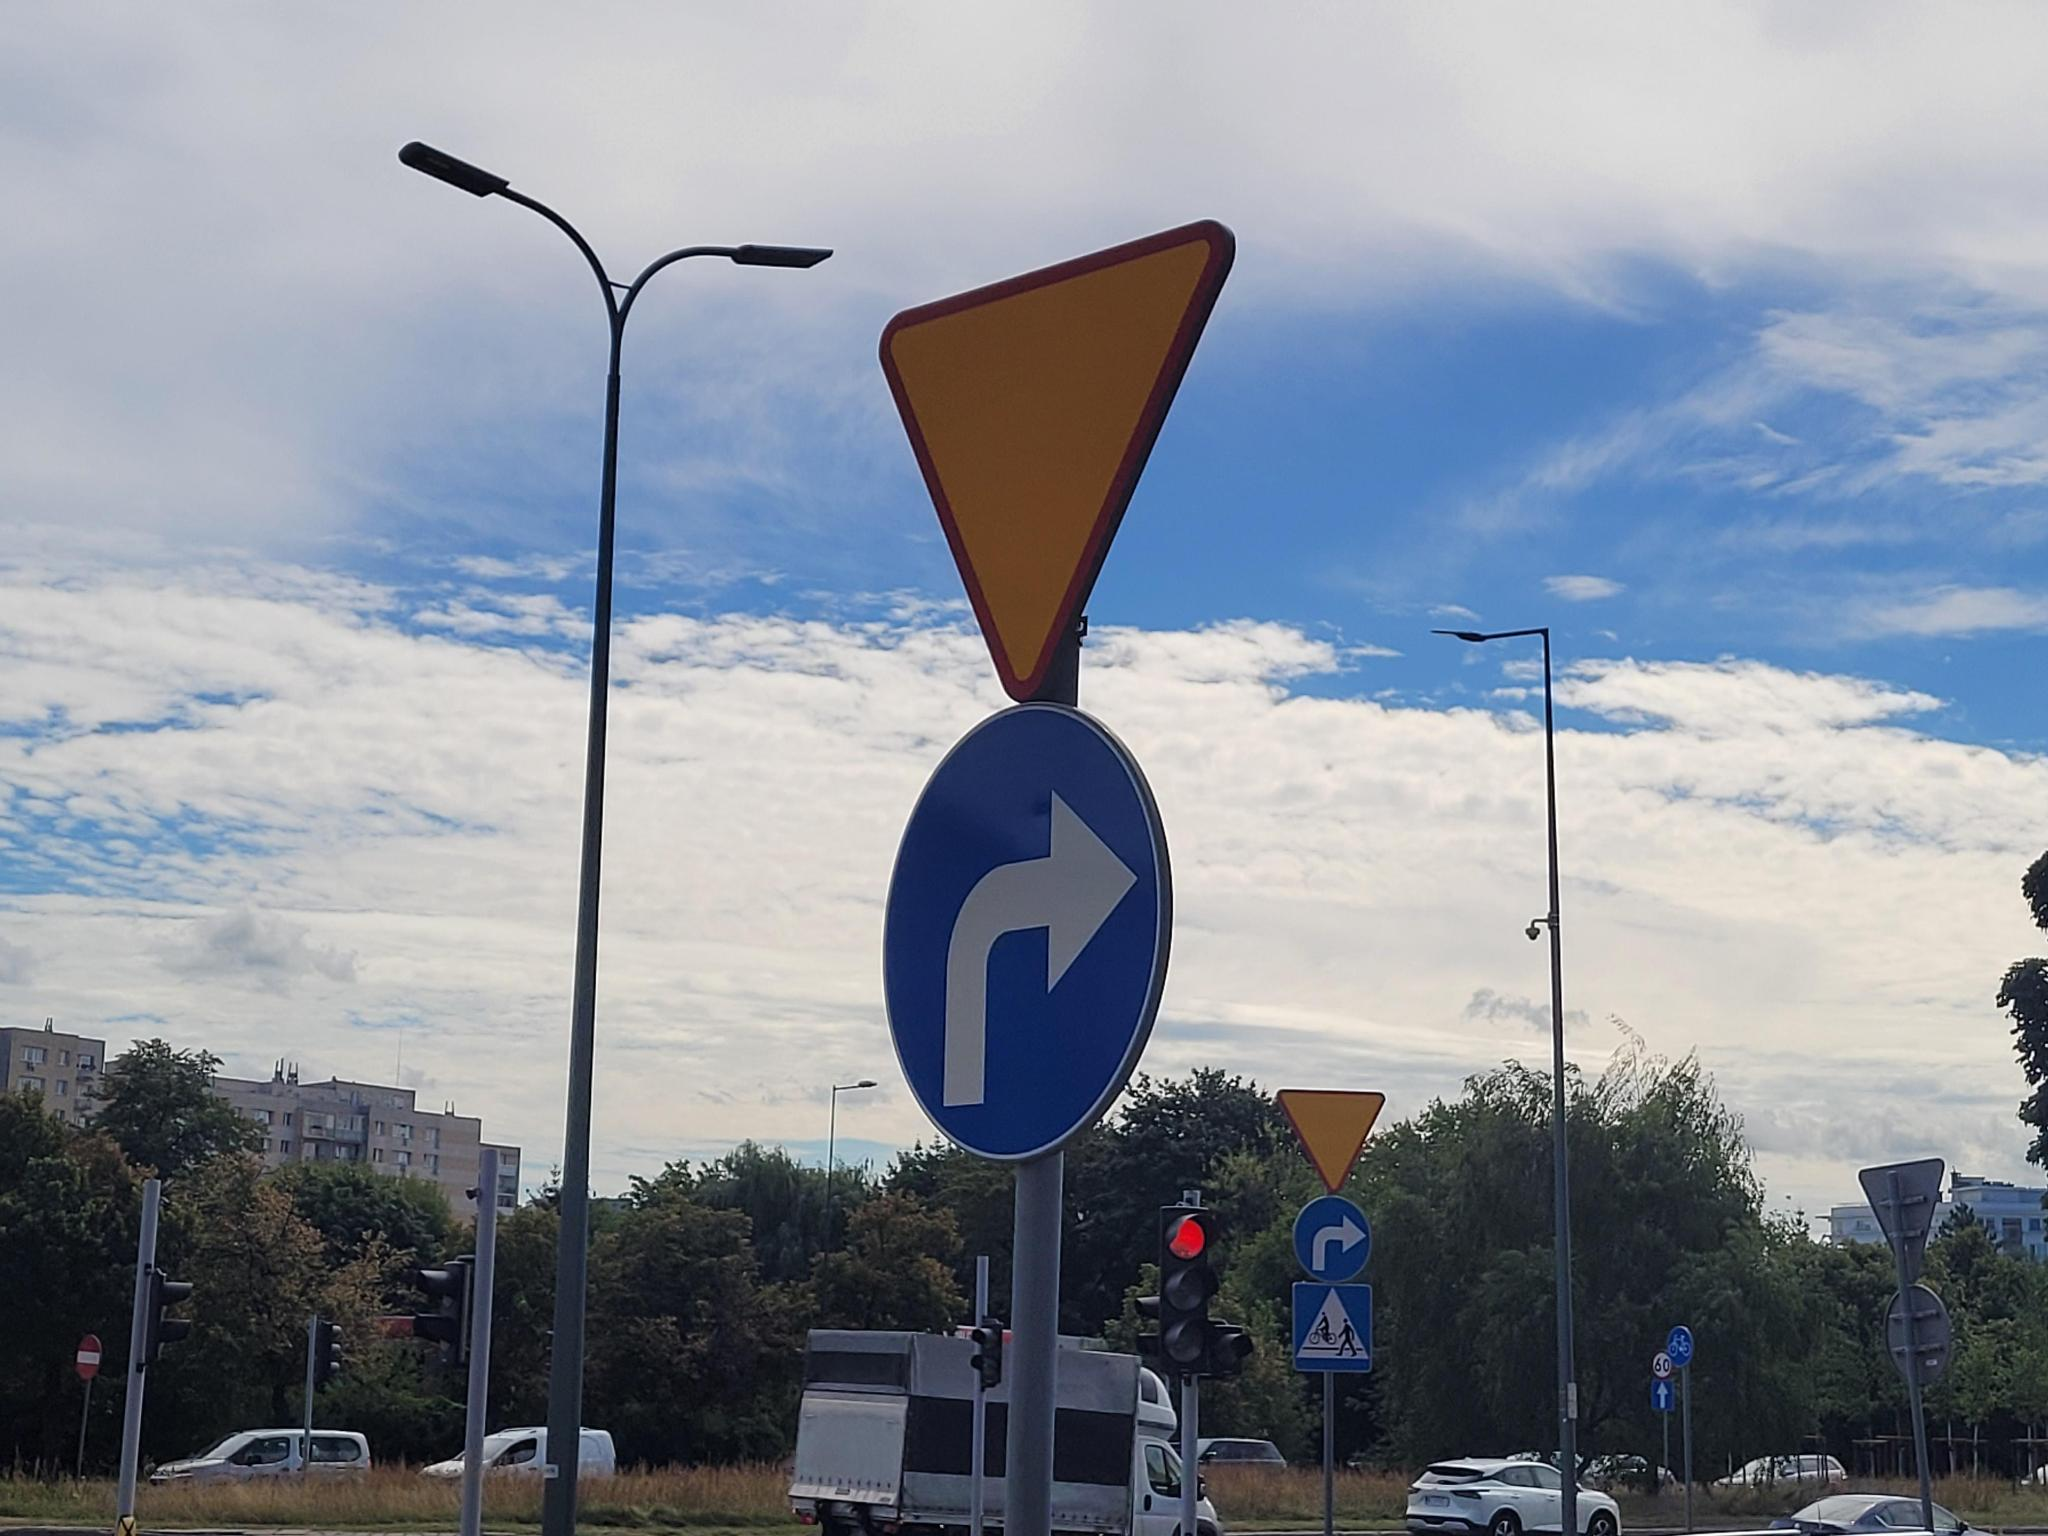information: (1294, 1285, 1370, 1371), (1652, 1382, 1672, 1408)
mandatory: (879, 699, 1175, 1166), (1292, 1194, 1372, 1284), (1666, 1326, 1694, 1368)
prohibitory: (76, 1334, 102, 1380), (1652, 1348, 1674, 1380)
warning: (878, 217, 1236, 703), (1278, 1088, 1386, 1192)
